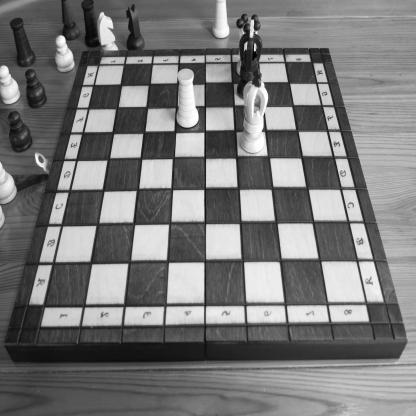black-bishop: (61, 0, 80, 41)
black-king: (237, 19, 263, 101)
black-knight: (125, 2, 145, 51)
black-pawn: (7, 110, 33, 153), (25, 68, 47, 109)
black-rook: (9, 17, 36, 67), (80, 0, 100, 48)
white-king: (240, 67, 269, 154)
white-knight: (176, 68, 199, 128), (96, 11, 119, 51)
white-pawn: (1, 64, 21, 106), (0, 161, 18, 205), (55, 34, 75, 73)
white-queen: (236, 13, 261, 77)
white-rook: (211, 0, 230, 39)
